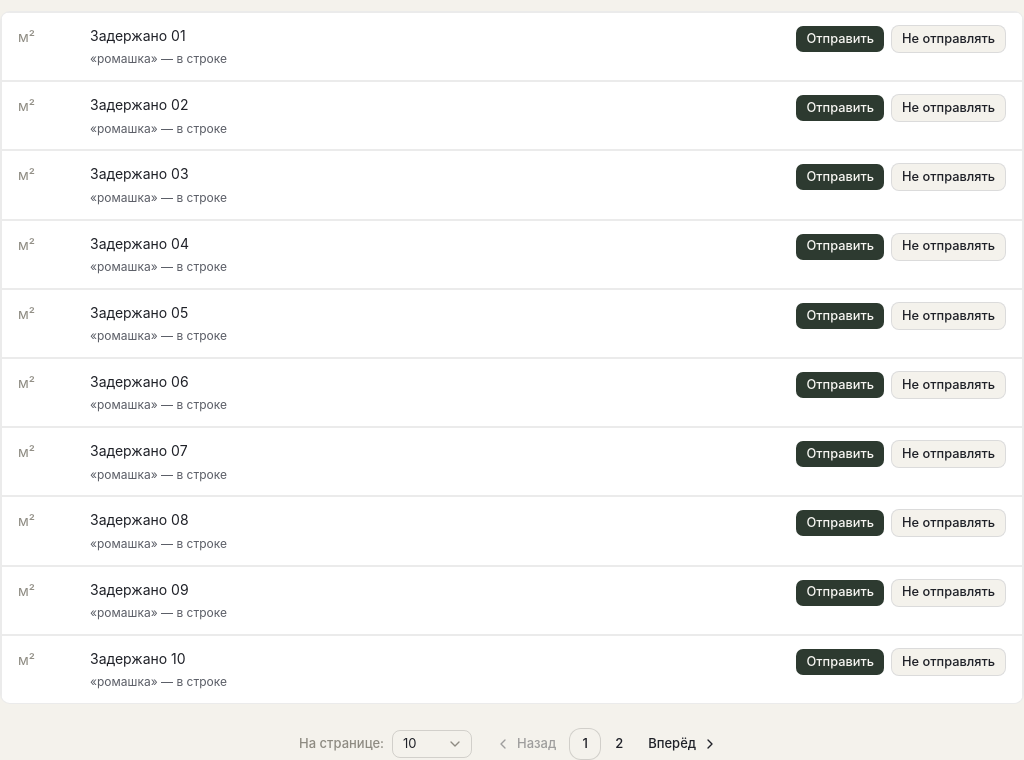
Test: ErrorsQueue — страницы › страницы задержанных: при 10 на странице одиннадцатое задание на второй
(page scrolled)
Expected: the text "Задержано 11" is not shown
Click the button with aria-label "Следующая страница".
click(683, 744)  # box [648,735,718,752]
(page scrolled)
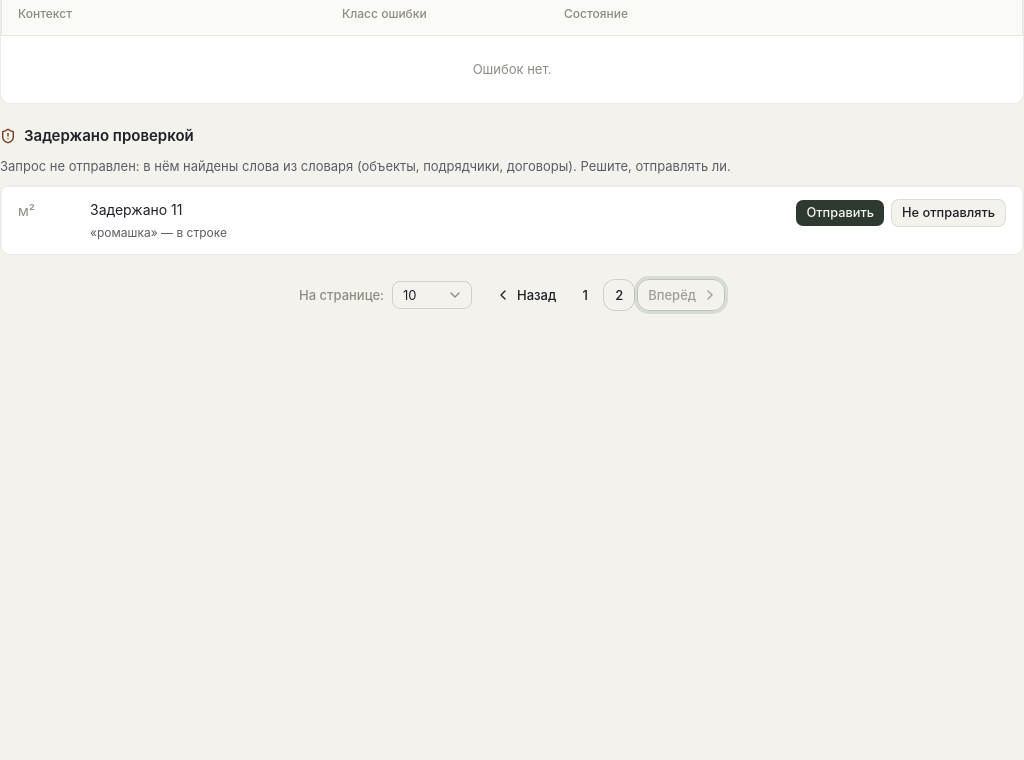
Expected: the number of elements with test id "held-job" is 1, [1,186,1023,254]
Expected: the text "Задержано 11" is shown, [90,201,182,218]
